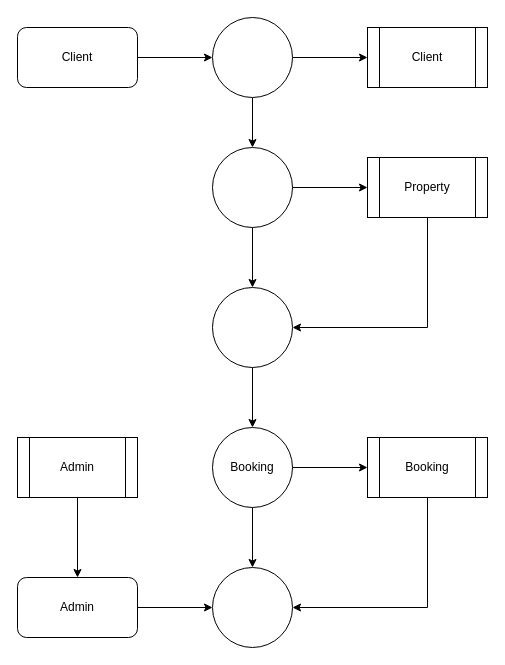
The diagram is 505 pixels wide and 665 high, and some of its shapes have lost their labels. Here are the shapes that lost their labels. From the top down, the box of each, then its label:
(212, 16, 292, 98): Account Registration
(212, 146, 292, 228): Upload Property
(212, 286, 292, 368): View Property
(212, 566, 292, 648): Reports
